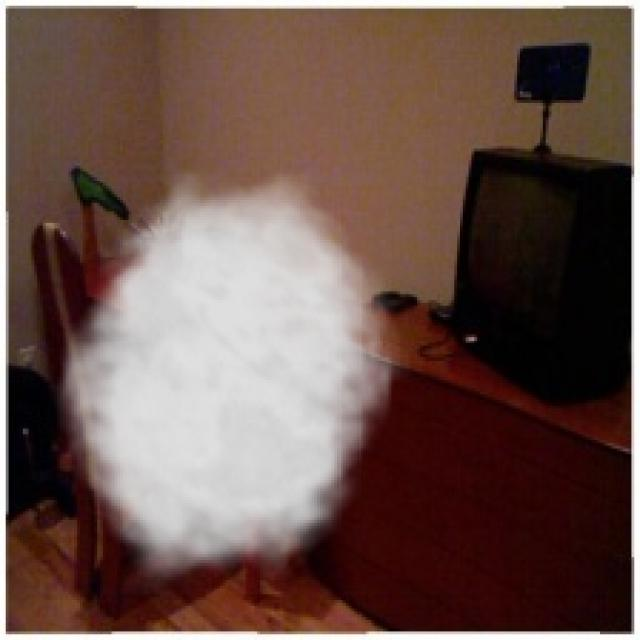smoke: (49, 169, 412, 594)
